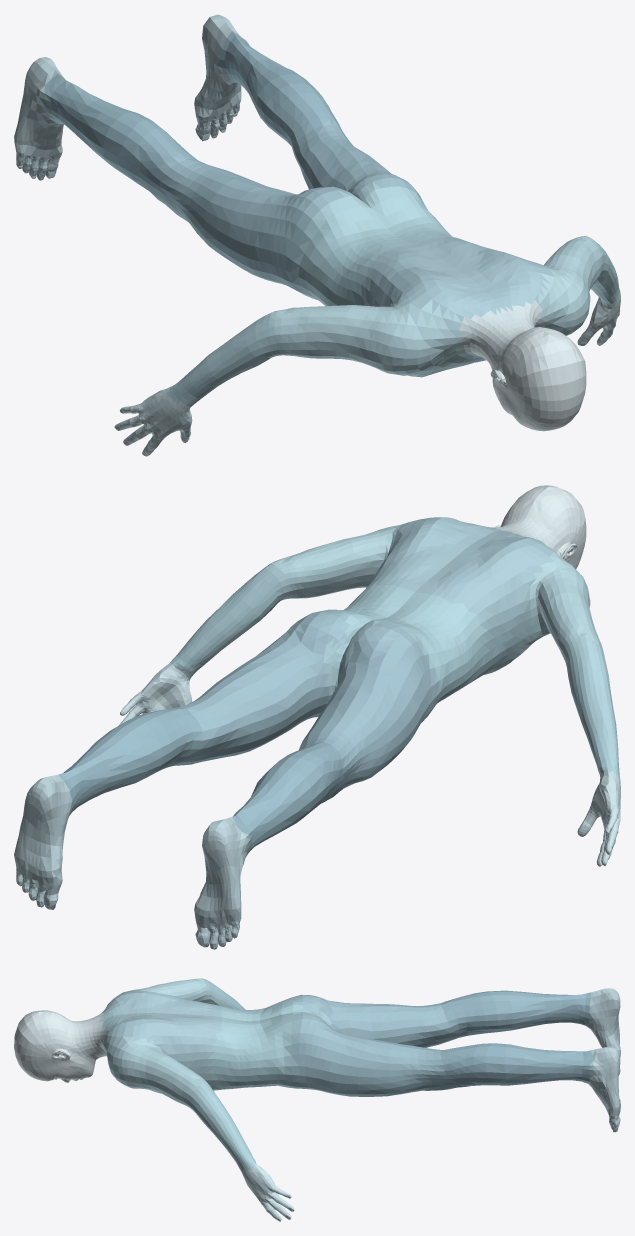
File: crew_C6.glb
3 renders of one model, top to bottom at view 1: azimuth 30°, elevation 25°; view 2: azimuth 150°, elevation 25°; view 3: azimuth 270°, elevation 25°, orthographic. The views are drawn at different scales.
Parts seen in each view (by area): view 1: right_thigh, abdomen, right_upper_arm, chest, head, right_lower_leg, left_lower_leg, left_upper_arm, right_forearm, right_foot, left_thigh, left_foot (+5 smaller); view 2: abdomen, left_thigh, right_thigh, chest, left_lower_leg, right_lower_leg, left_foot, left_upper_arm, right_foot, left_forearm, right_forearm, right_upper_arm (+5 smaller); view 3: left_thigh, abdomen, chest, left_lower_leg, right_lower_leg, right_thigh, head, left_upper_arm, left_forearm, left_foot, right_foot, left_hand (+4 smaller).
Boxes of the visible parts, x1,y1,x2,y2 form: right_thigh: [153, 157, 308, 293]; abdomen: [356, 237, 553, 377]; right_upper_arm: [269, 299, 471, 375]; chest: [290, 182, 460, 305]; head: [489, 327, 586, 431]; right_lower_leg: [39, 74, 197, 198]; left_lower_leg: [217, 31, 338, 145]; left_upper_arm: [537, 236, 603, 335]; right_forearm: [166, 311, 282, 406]; right_foot: [14, 57, 63, 180]; left_thigh: [291, 119, 405, 191]; left_foot: [194, 14, 247, 141]; abdomen: [367, 517, 553, 679]; left_thigh: [174, 617, 329, 765]; right_thigh: [299, 639, 439, 799]; chest: [324, 582, 489, 709]; left_lower_leg: [58, 708, 202, 814]; right_lower_leg: [232, 742, 343, 856]; left_foot: [14, 774, 72, 909]; left_upper_arm: [275, 520, 417, 599]; right_foot: [194, 817, 250, 949]; left_forearm: [170, 561, 285, 679]; right_forearm: [565, 636, 619, 777]; right_upper_arm: [530, 544, 602, 660]; left_thigh: [284, 1019, 458, 1096]; abdomen: [99, 990, 221, 1093]; chest: [206, 997, 334, 1090]; left_lower_leg: [441, 1043, 593, 1087]; right_lower_leg: [441, 990, 593, 1037]; right_thigh: [310, 995, 466, 1047]; head: [14, 1010, 98, 1082]; left_upper_arm: [102, 1029, 204, 1106]; left_forearm: [187, 1079, 256, 1171]; left_foot: [585, 1046, 620, 1132]; right_foot: [585, 988, 620, 1074]; left_hand: [241, 1164, 294, 1221].
Size of the model in its own units: 1.15 by 0.4526 by 1.78.
